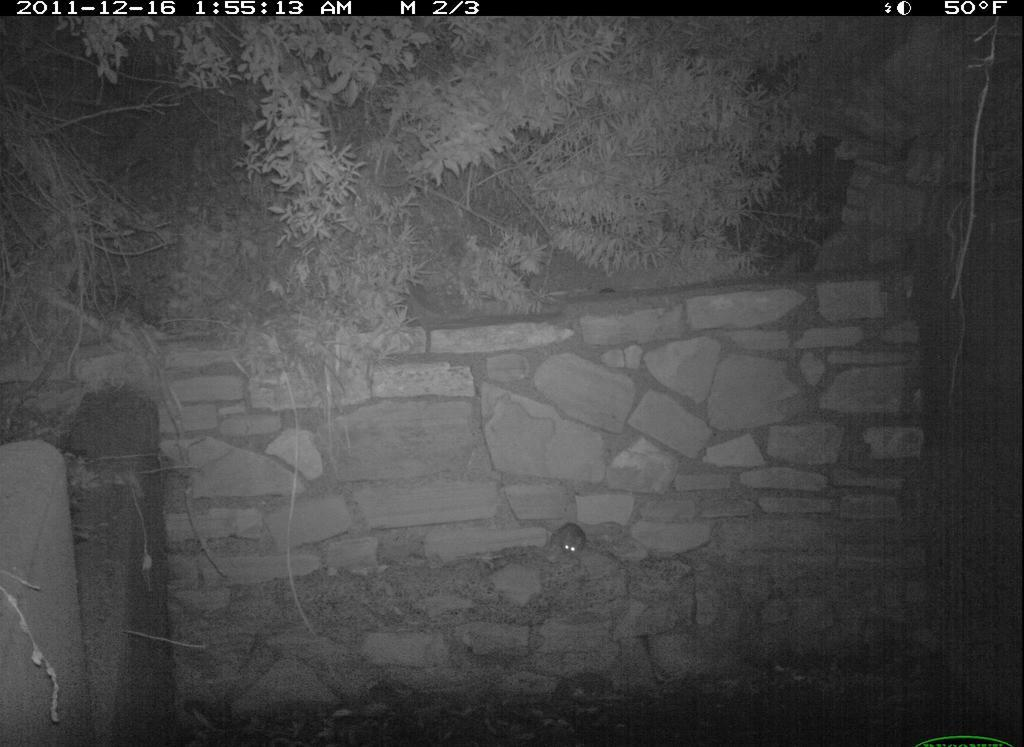rodent: (533, 511, 593, 573)
